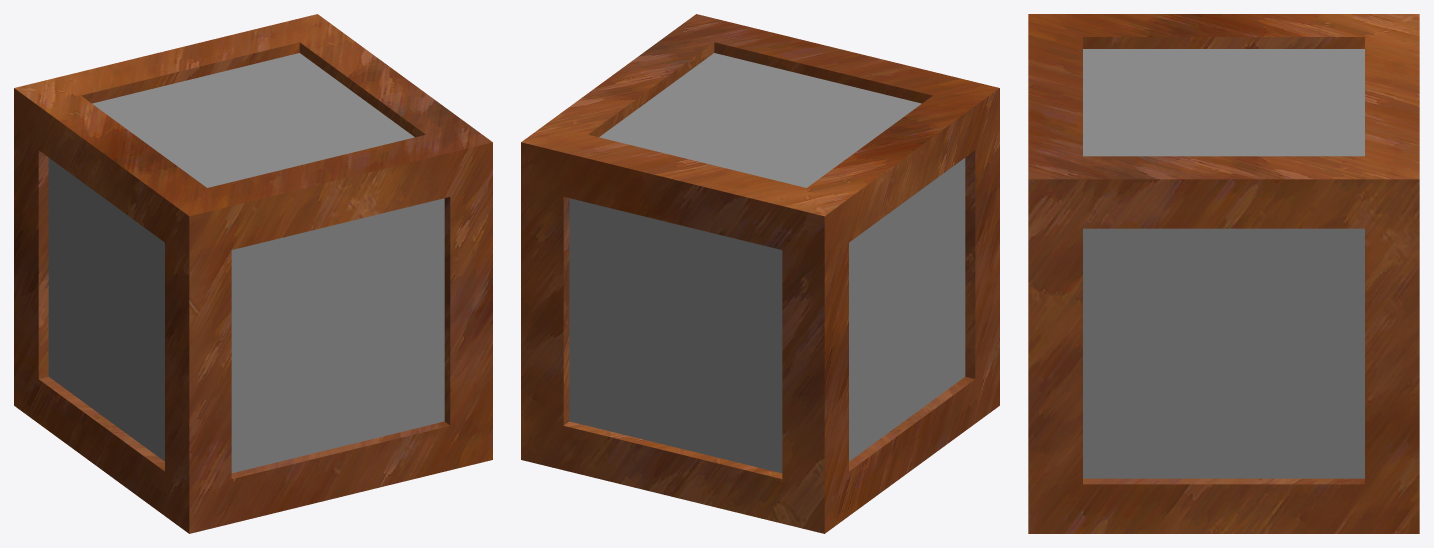
3 renders of one model, left to right at view 1: azimuth 30°, elevation 25°; view 2: azimuth 150°, elevation 25°; view 3: azimuth 270°, elevation 25°, orthographic. The views are drawn at different scales.
Visible parts, largest first — view 1: Crate; view 2: Crate; view 3: Crate.
Boxes of the visible parts, x1=… form: Crate: x1=14, y1=14, x2=492, y2=533; Crate: x1=521, y1=14, x2=999, y2=533; Crate: x1=1028, y1=14, x2=1419, y2=533.
Size of the model in its own units: 52.67 by 52.67 by 52.67.
